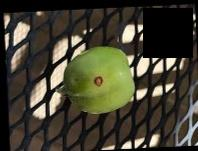rotten apple: (62, 46, 134, 114)
